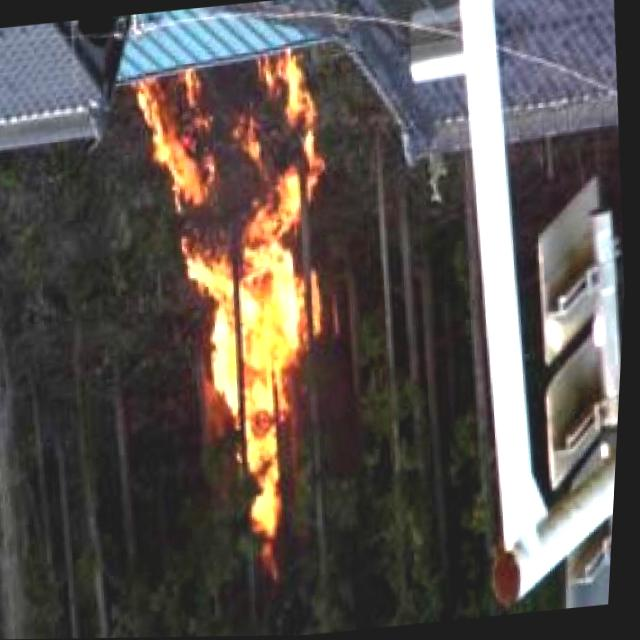helmet: (115, 40, 367, 590)
